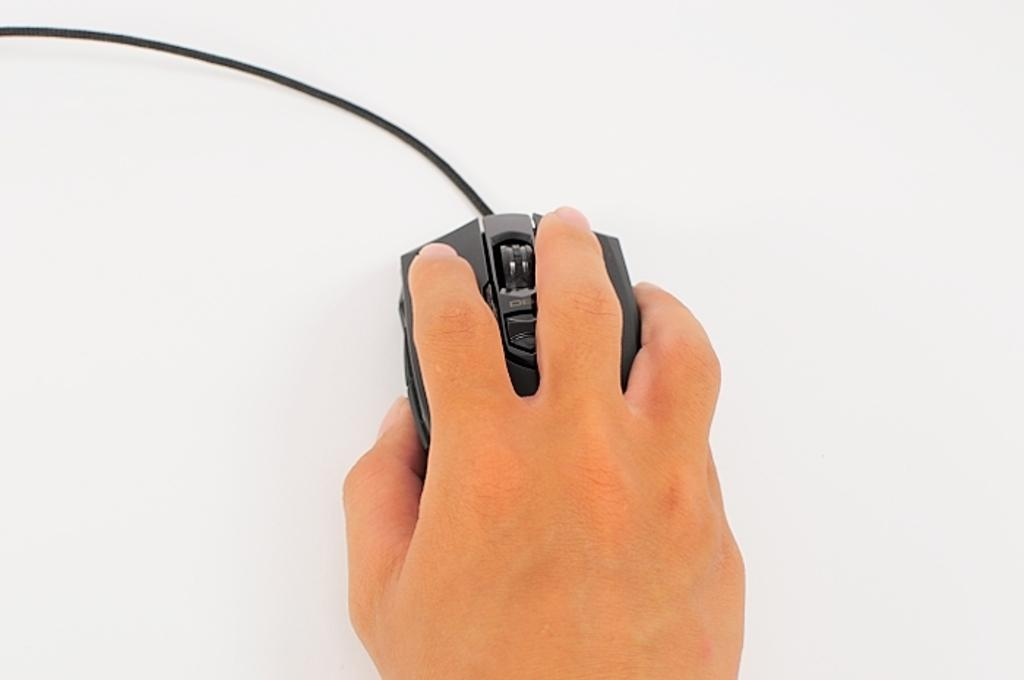Computer-mouse: (392, 214, 647, 456)
